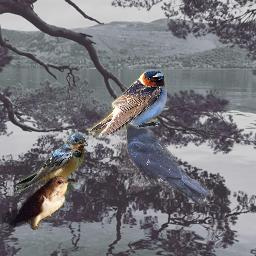Crow: (112, 115, 210, 207)
Cuckoo: (2, 175, 78, 230)
Swallow: (88, 69, 167, 139), (11, 133, 88, 198)
